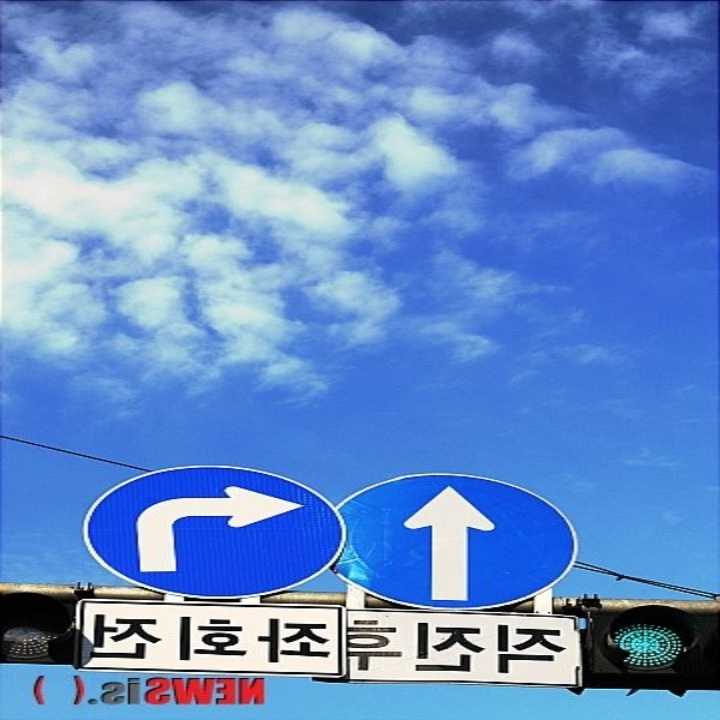right: (127, 474, 309, 576)
